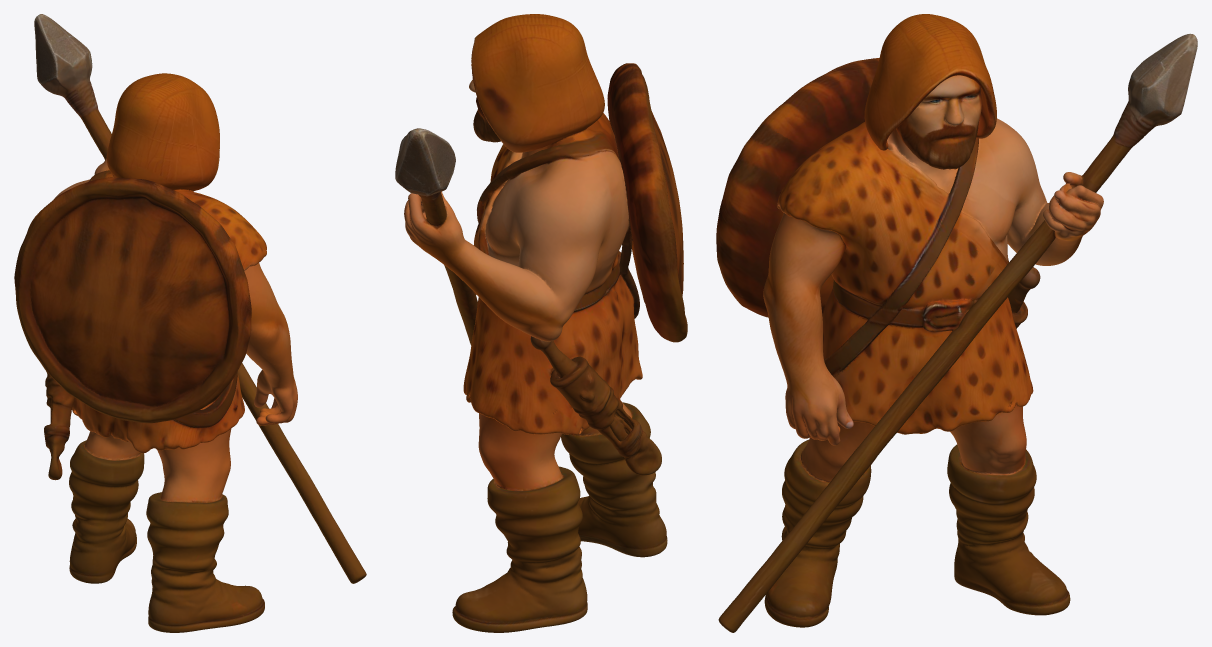
The picture shows the model from 3 angles, left to right: view 1: azimuth 30°, elevation 25°; view 2: azimuth 150°, elevation 25°; view 3: azimuth 270°, elevation 25°; orthographic projection. The views are drawn at different scales.
Parts seen in each view (by area): view 1: tripo_node_83881d90-3290-46df-b177-2b6630cefd67; view 2: tripo_node_83881d90-3290-46df-b177-2b6630cefd67; view 3: tripo_node_83881d90-3290-46df-b177-2b6630cefd67.
Part boxes in pixels (x1,y1,x2,y2): tripo_node_83881d90-3290-46df-b177-2b6630cefd67: [14, 14, 366, 632]; tripo_node_83881d90-3290-46df-b177-2b6630cefd67: [395, 14, 687, 632]; tripo_node_83881d90-3290-46df-b177-2b6630cefd67: [716, 14, 1197, 632].
Bounding box in the file's own units: 0.5303 × 1 × 0.747.
Materials: 1 (1 with a texture image).
